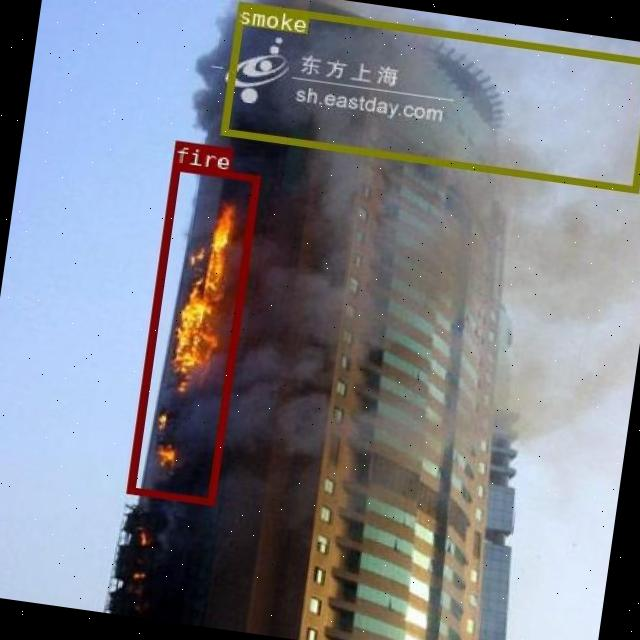fire: (126, 164, 260, 505)
smoke: (219, 0, 640, 190)
